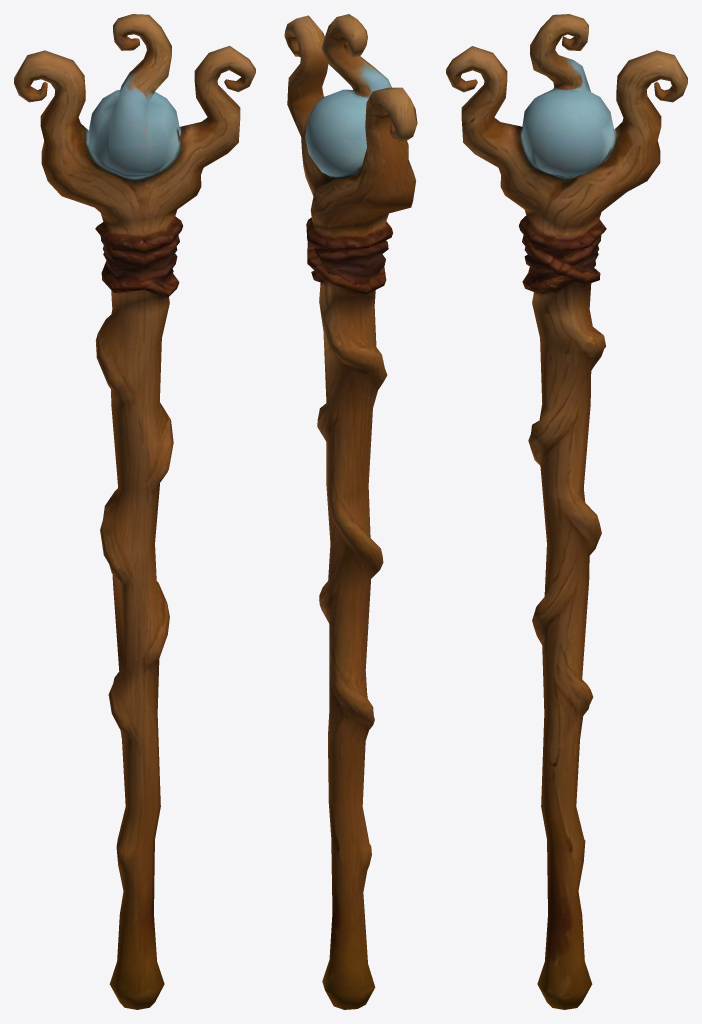
The model's file is staff_rare_b_ember.glb.
The picture shows the model from 3 angles, left to right: view 1: azimuth 90°, elevation 25°; view 2: azimuth 210°, elevation 25°; view 3: azimuth 270°, elevation 25°; orthographic projection.
Parts seen in each view (by area): view 1: tripo_node_afd9772d-4086-4c74-928c-1d204a02736e; view 2: tripo_node_afd9772d-4086-4c74-928c-1d204a02736e; view 3: tripo_node_afd9772d-4086-4c74-928c-1d204a02736e.
Part boxes in pixels (box(x1,y1,x2,y2)): tripo_node_afd9772d-4086-4c74-928c-1d204a02736e: box(14, 14, 255, 1009); tripo_node_afd9772d-4086-4c74-928c-1d204a02736e: box(284, 14, 417, 1009); tripo_node_afd9772d-4086-4c74-928c-1d204a02736e: box(446, 14, 687, 1009).
Size of the model in its own units: 0.2037 by 2.28 by 0.5046.
Materials: 1 (1 with a texture image).
